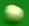white: (0, 0, 29, 26)
